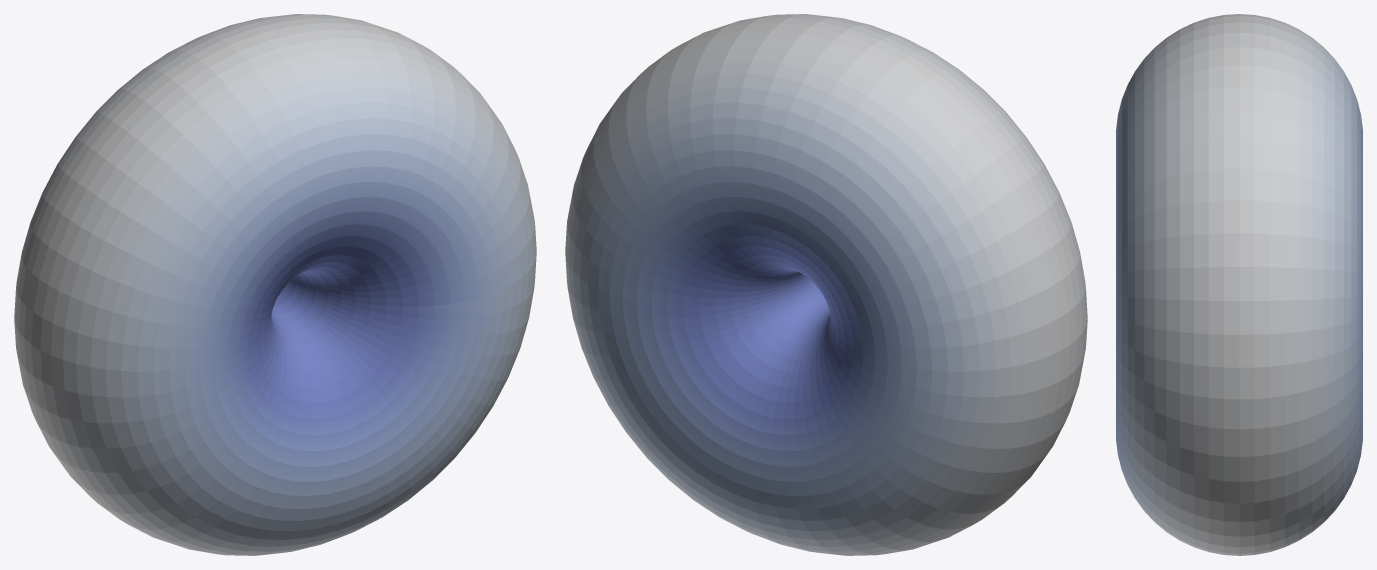
3 renders of one model, left to right at view 1: azimuth 30°, elevation 25°; view 2: azimuth 150°, elevation 25°; view 3: azimuth 270°, elevation 25°, orthographic. The views are drawn at different scales.
Visible parts, largest first — view 1: world; view 2: world; view 3: world.
Boxes of the visible parts, left/top/right/bottom form: world: left=14, top=14, right=536, bottom=555; world: left=565, top=14, right=1087, bottom=555; world: left=1116, top=14, right=1362, bottom=555.
Size of the model in its own units: 18.4 by 18.36 by 8.38.
